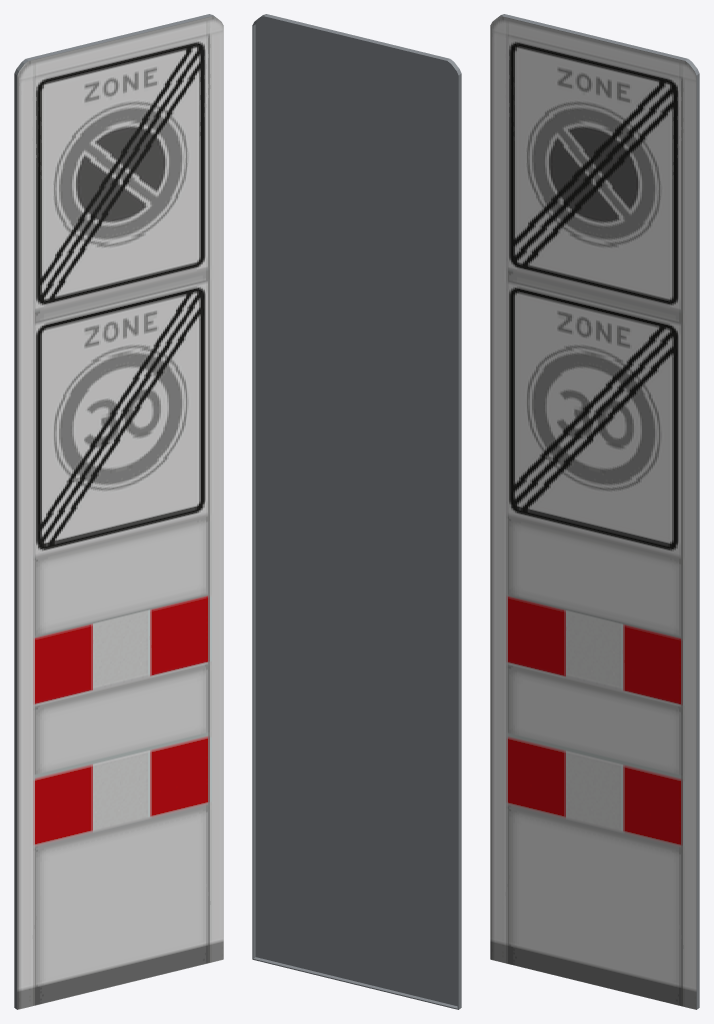
3 views of the same model, side by side, from view 1: azimuth 30°, elevation 25°; view 2: azimuth 150°, elevation 25°; view 3: azimuth 330°, elevation 25° (orthographic).
Visible parts, largest first — view 1: cat_c398a4e79945c009; view 2: cat_c398a4e79945c009; view 3: cat_c398a4e79945c009.
Boxes of the visible parts, x1,y1,x2,y2 form: cat_c398a4e79945c009: (14, 14, 223, 1009); cat_c398a4e79945c009: (252, 14, 461, 1009); cat_c398a4e79945c009: (490, 14, 699, 1009).
Bounding box in the file's own units: 0.6 × 0.015 × 2.63.
2 materials, 1 textured.
